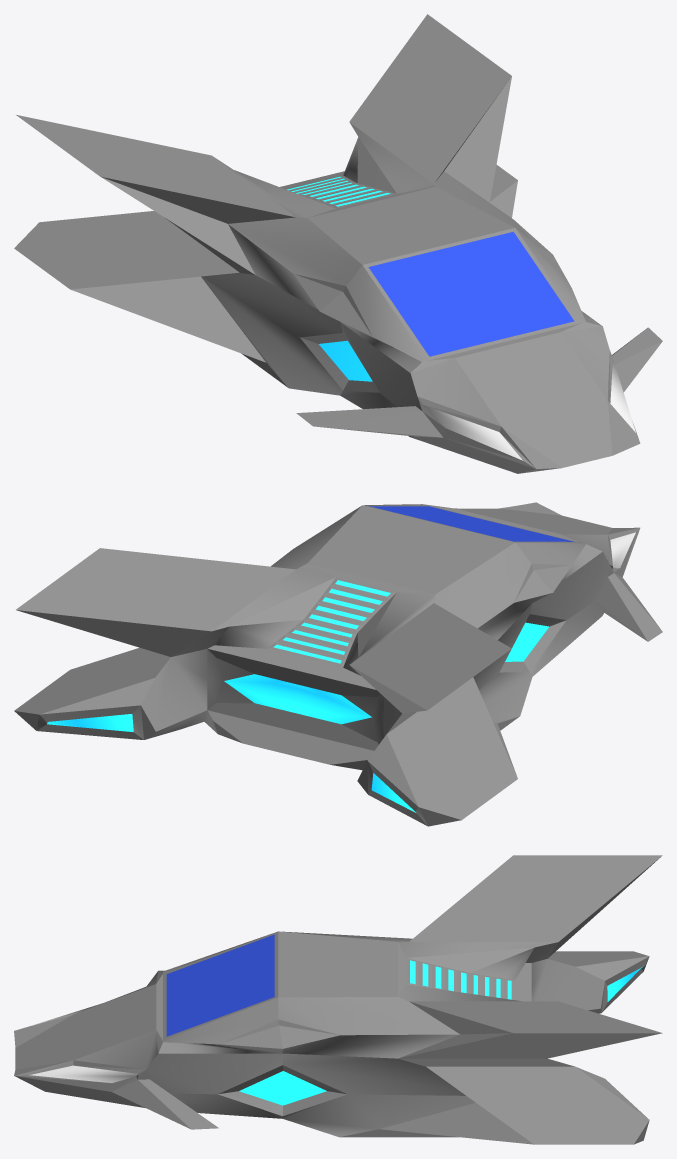
File: spaceship.FBX
3 views of the same model, one above another, from view 1: azimuth 30°, elevation 25°; view 2: azimuth 150°, elevation 25°; view 3: azimuth 270°, elevation 25° (orthographic). The views are drawn at different scales.
Parts seen in each view (by area): view 1: Box001; view 2: Box001; view 3: Box001.
Boxes of the visible parts, x1,y1,x2,y2 form: Box001: (14, 14, 662, 473); Box001: (14, 502, 662, 826); Box001: (14, 855, 662, 1144).
Size of the model in its own units: 116 by 40.2 by 165.
